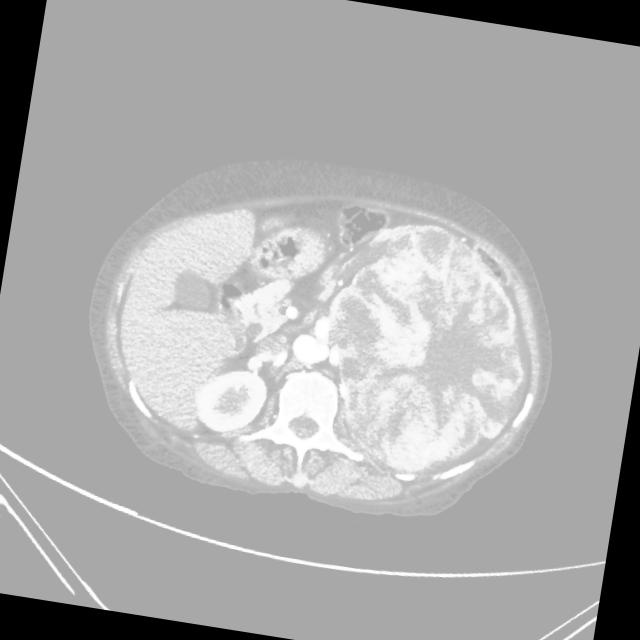TUMOR: (183, 241, 499, 452)
